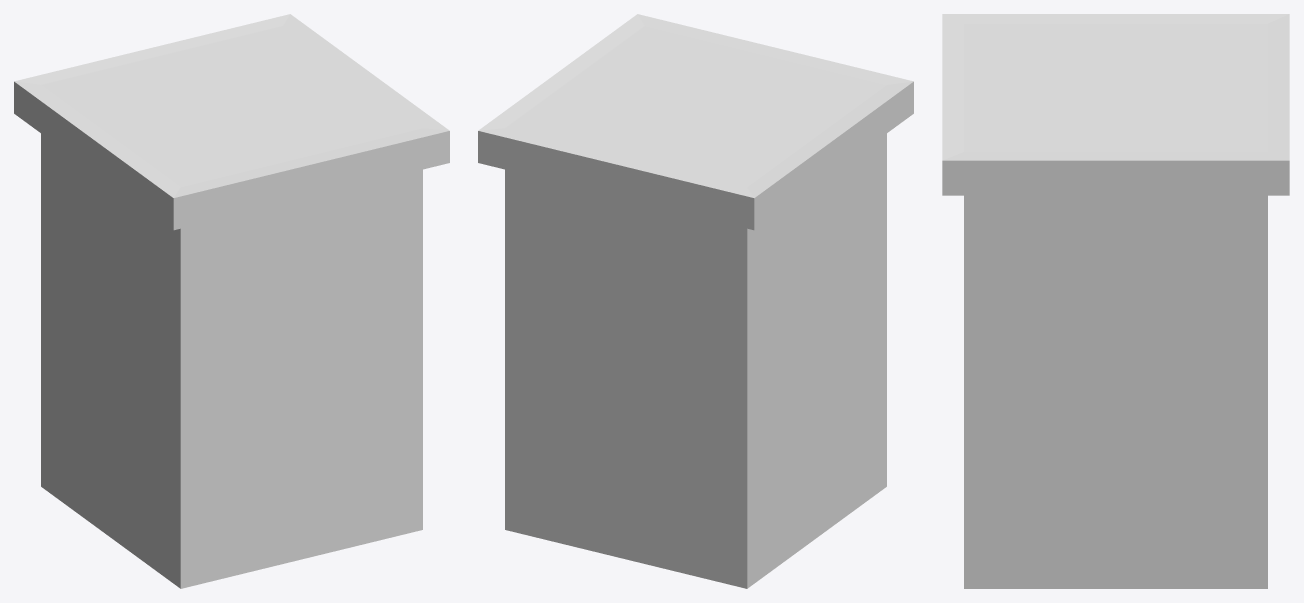
File: Platform1.fbx
3 views of the same model, side by side, from view 1: azimuth 30°, elevation 25°; view 2: azimuth 150°, elevation 25°; view 3: azimuth 270°, elevation 25° (orthographic). The views are drawn at different scales.
Parts seen in each view (by area): view 1: Cube; view 2: Cube; view 3: Cube.
Boxes of the visible parts, box(x1,y1,x2,y2) form: Cube: box(14, 14, 449, 588); Cube: box(478, 14, 913, 588); Cube: box(942, 14, 1289, 588).
Bounding box in the file's own units: 18 × 25.03 × 18.
